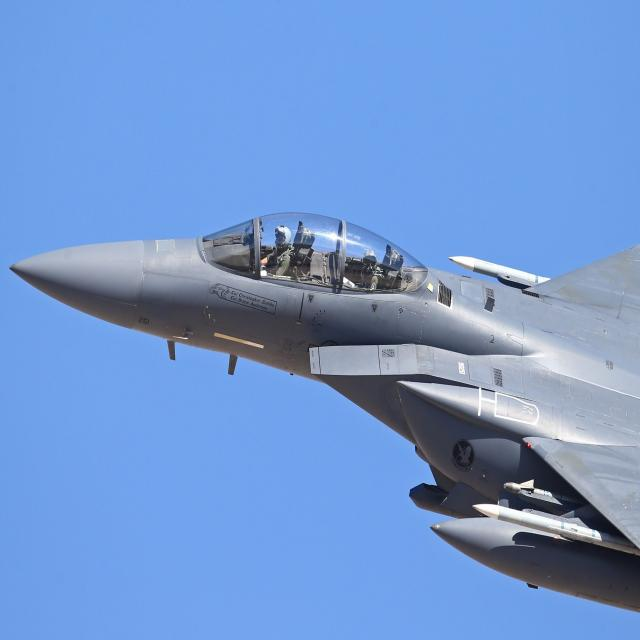F15: (0, 113, 640, 628)
